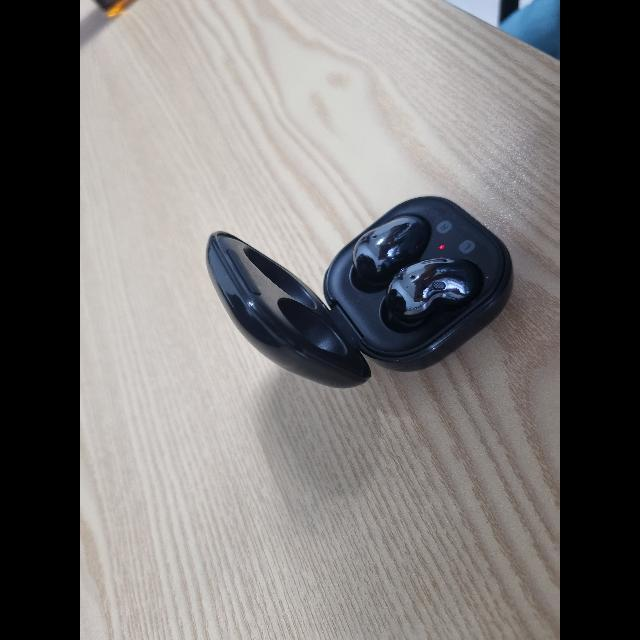buds_live: (203, 194, 515, 392)
